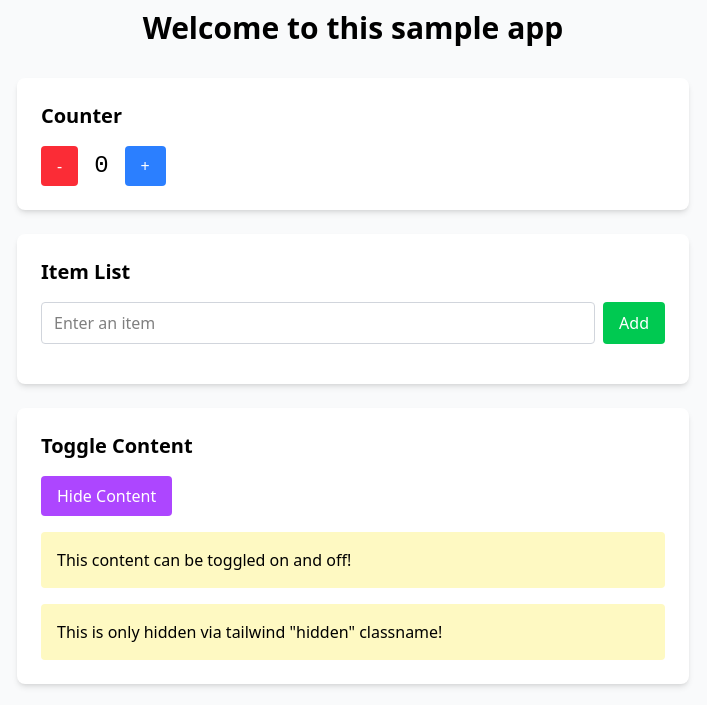
Test: Main app page (vitest) › counter › can interact with counter
Expected: the text with test id "counter-display" reads "0", [94,152,109,179]
Click the button named "Increment": (145,166) [125,146,166,186]
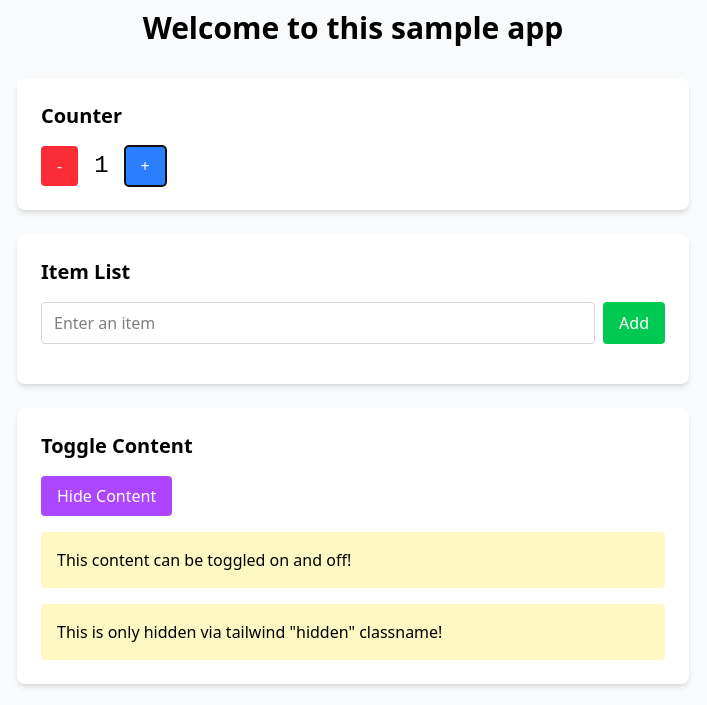
Result: the text with test id "counter-display" reads "1" at [94,152,109,179]
Click the button "-": (60,166) [41,146,78,186]
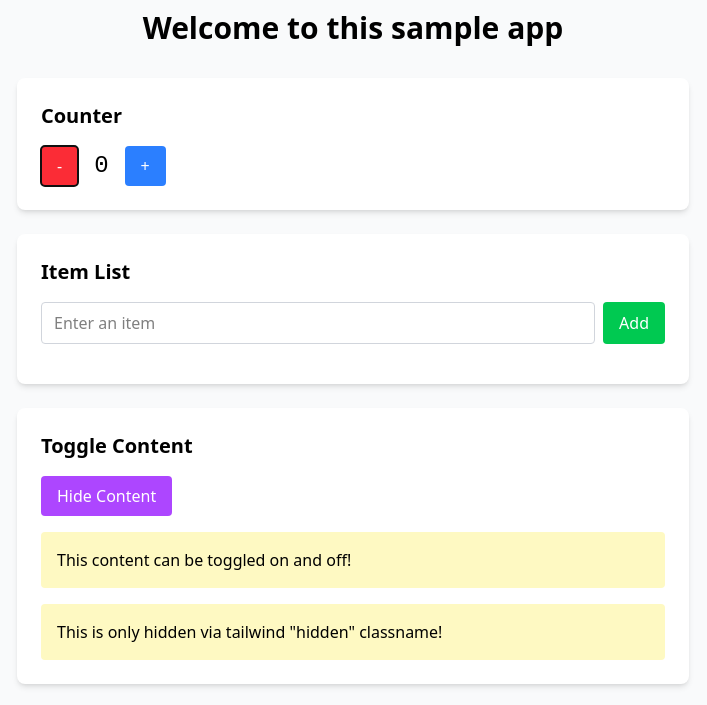
Result: the text with test id "counter-display" reads "0" at [94,152,109,179]
Click the button "-": (60,166) [41,146,78,186]
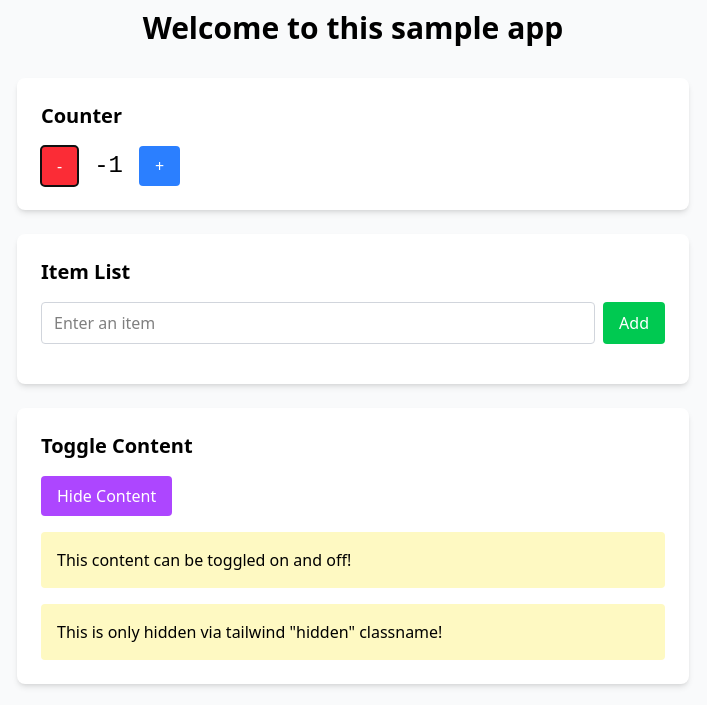
Result: the text with test id "counter-display" reads "-1" at [94,152,123,179]
